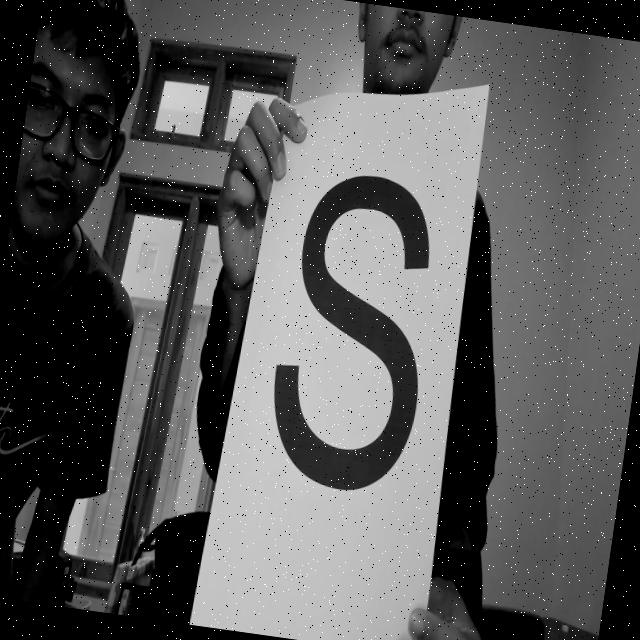s: (248, 149, 466, 532)
